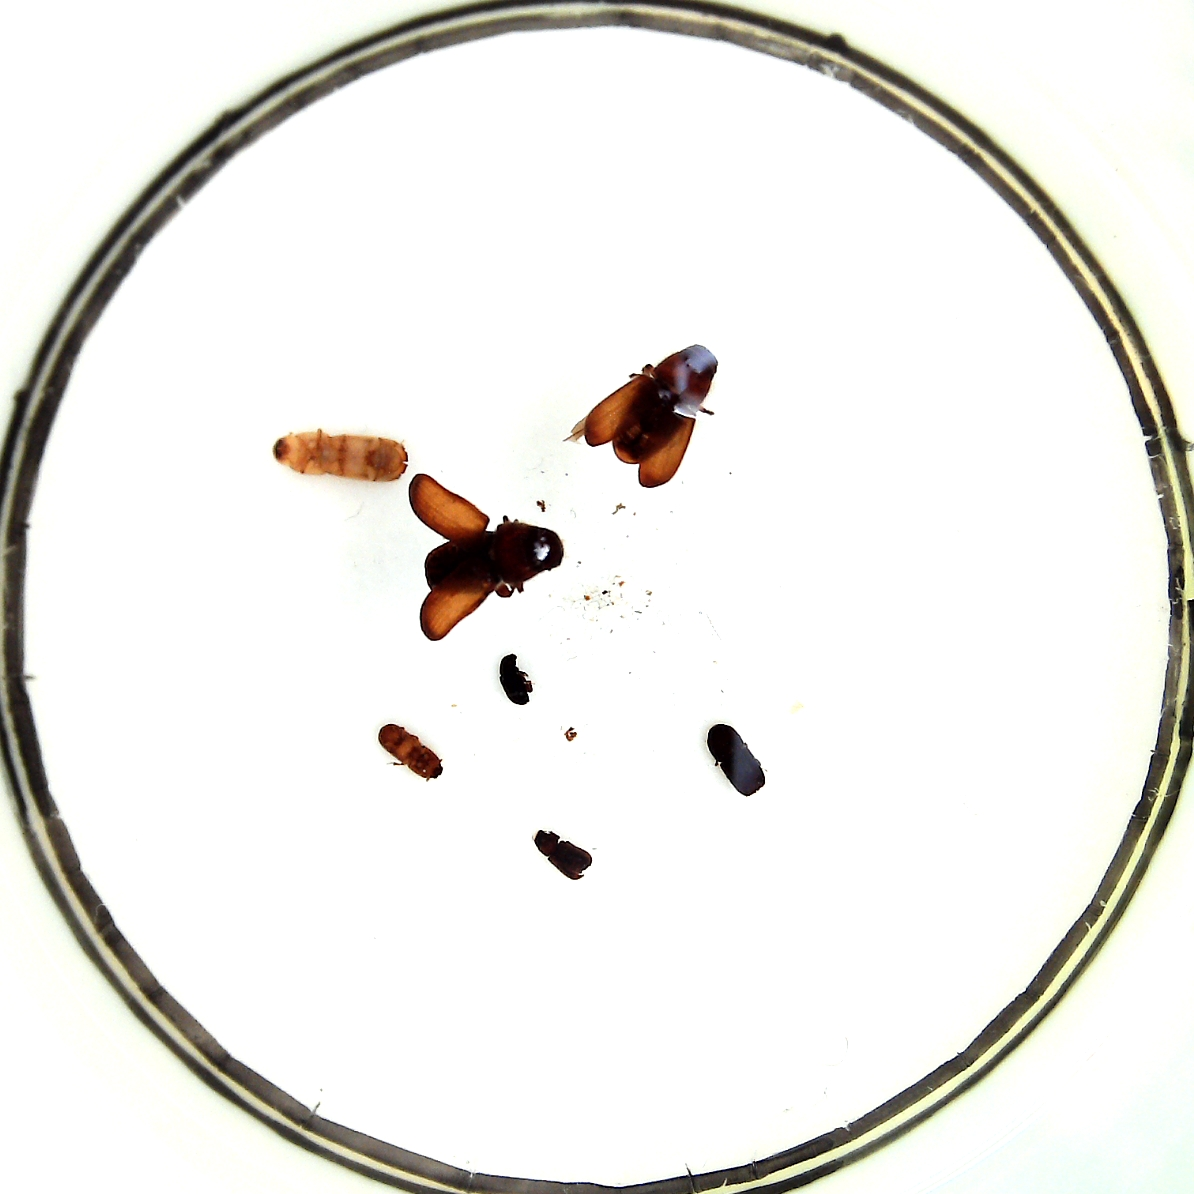Boerner: (273, 430, 408, 482)
Leconte: (408, 473, 565, 640), (584, 344, 718, 463)
acuminatus: (499, 653, 532, 705)
armandi: (377, 723, 443, 779)
coleoptera: (532, 830, 592, 880)
linnaeus: (707, 724, 764, 795)
